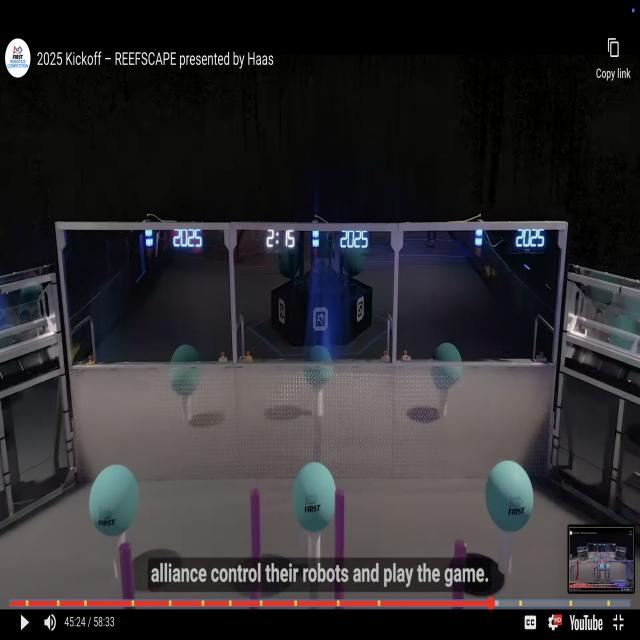algae: (482, 454, 538, 537), (86, 462, 140, 542), (290, 455, 338, 538)
coral: (108, 532, 133, 586), (306, 527, 325, 587), (498, 525, 516, 583)
